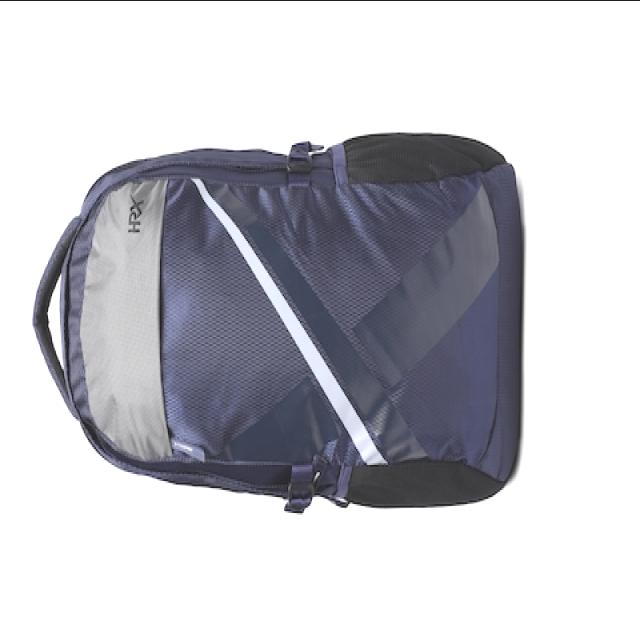backpack: (32, 133, 524, 515)
